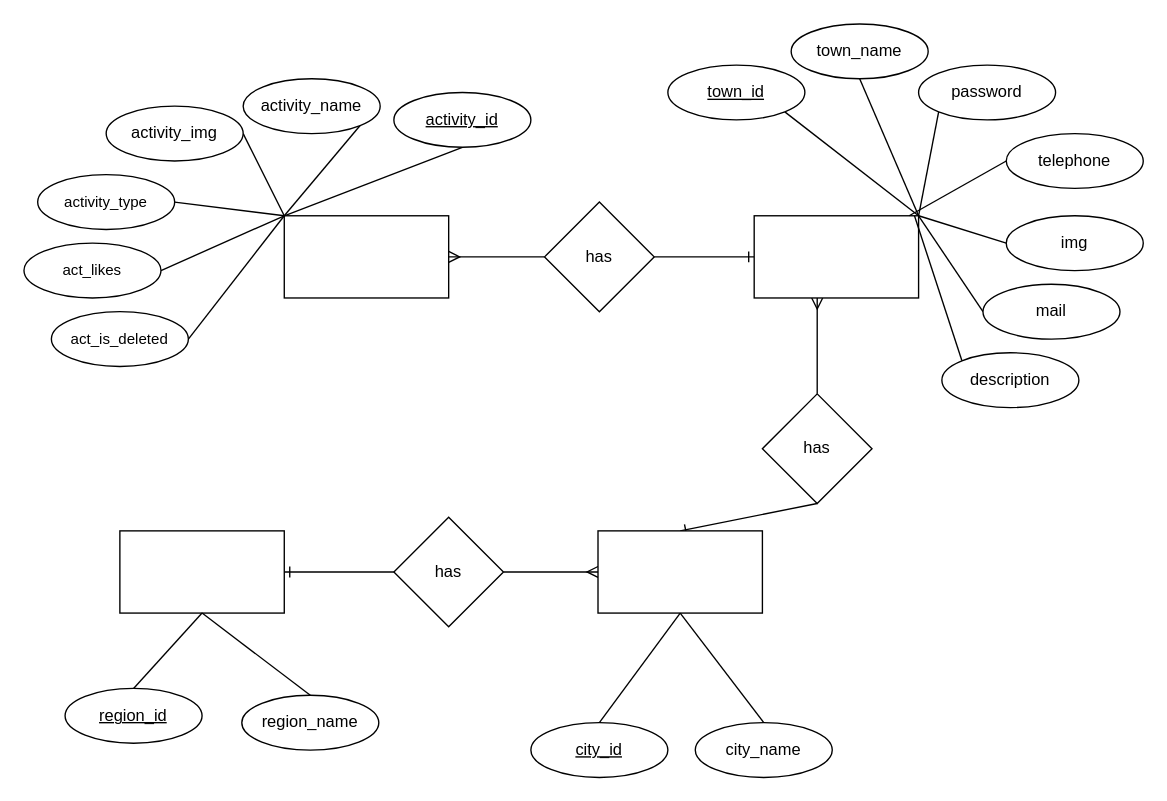
This 1167x801 diagram has some shape labels left out. Each missing label, with the centre of its shape:
"activity" goes at point (366, 256).
"city" goes at point (679, 571).
"region" goes at point (201, 571).
"town" goes at point (836, 256).
